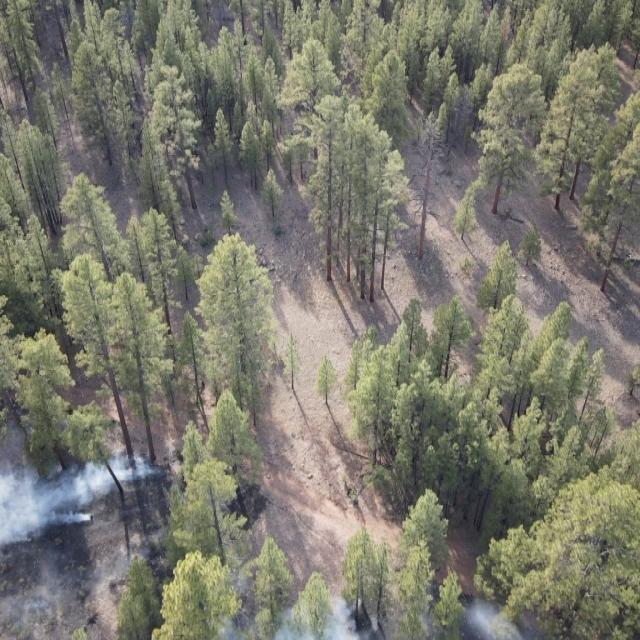fire: (124, 464, 138, 480)
smoke: (0, 450, 168, 550), (210, 582, 366, 640), (394, 595, 541, 640)
